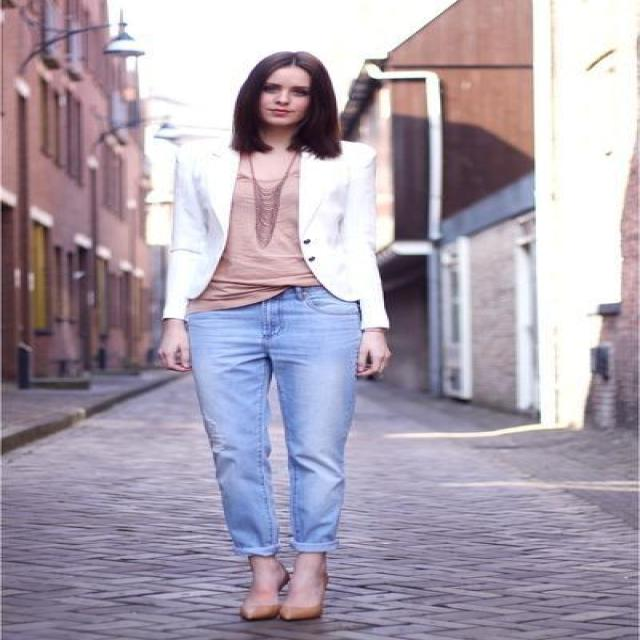jacket: (150, 127, 392, 328)
pants: (168, 294, 382, 555)
shirt: (188, 143, 350, 310)
shoe: (237, 552, 363, 616)
